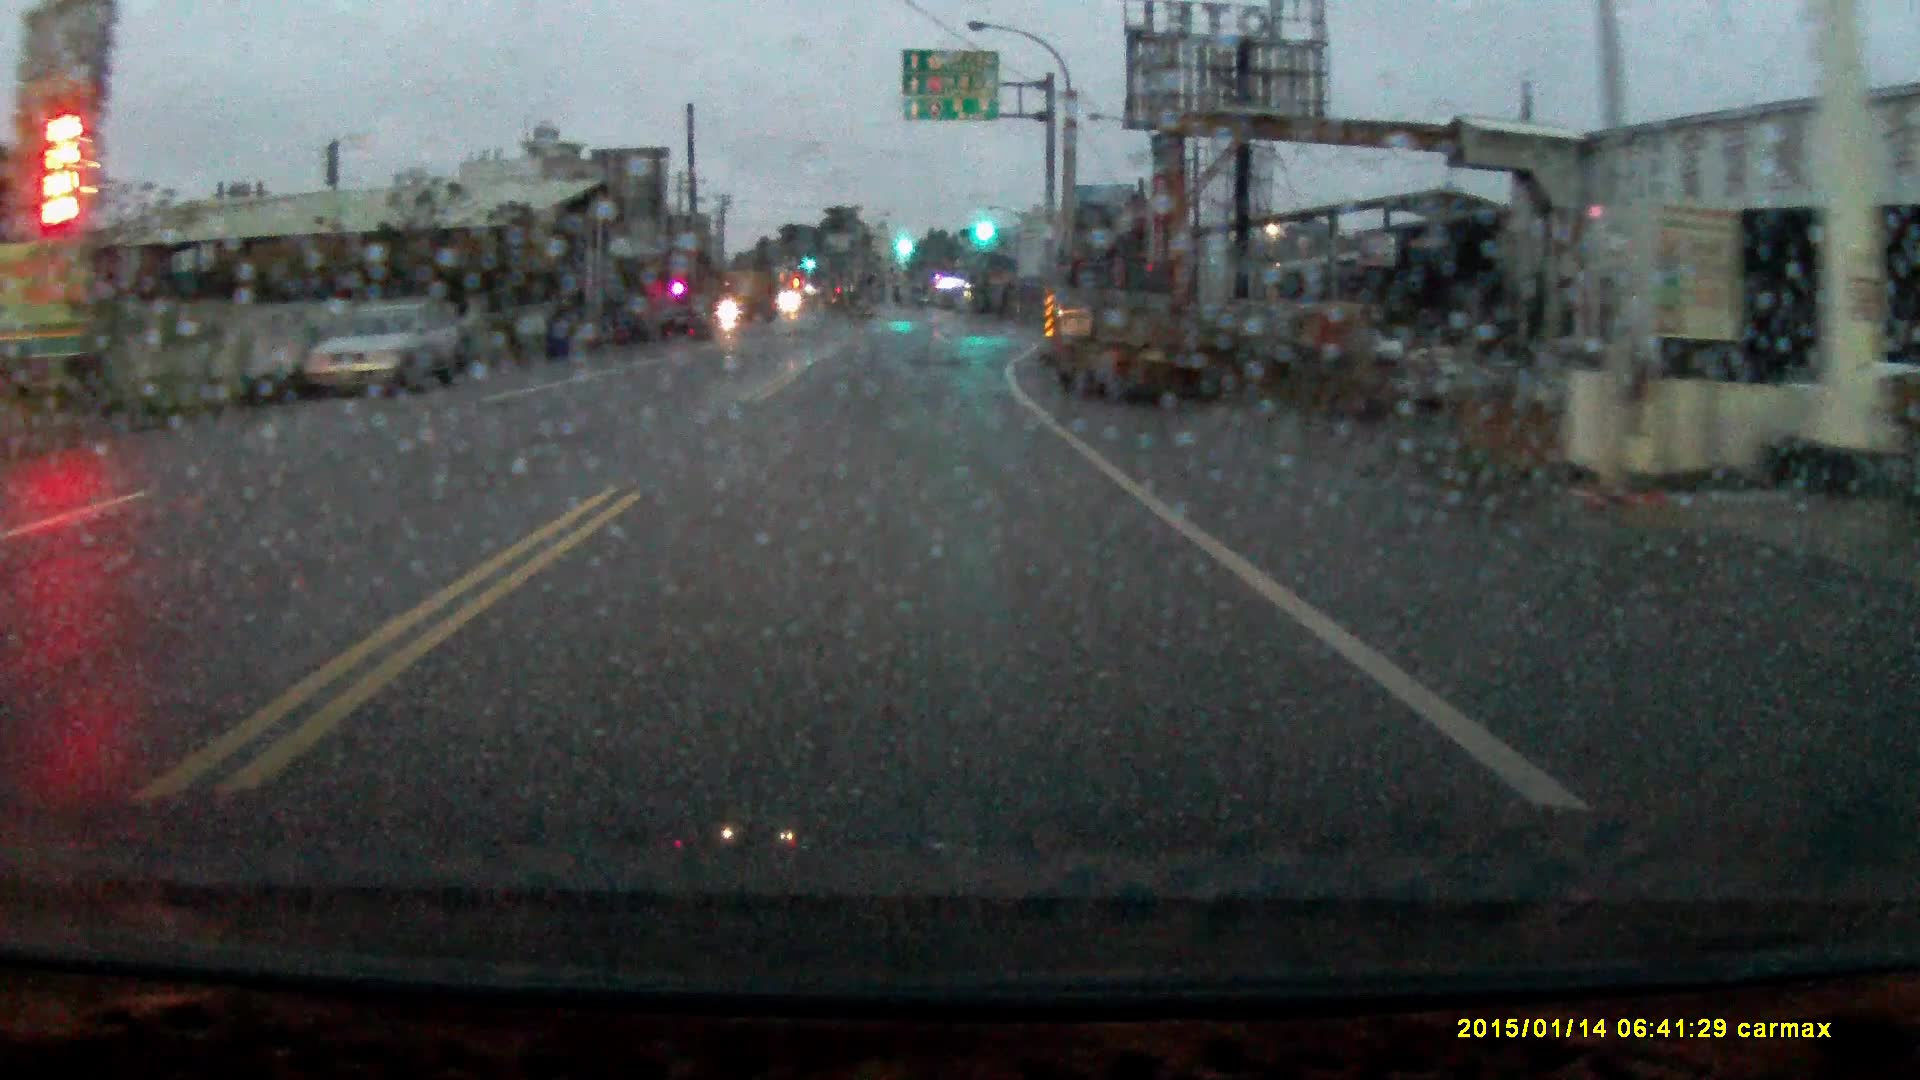vehicle: (1040, 247, 1189, 401), (299, 295, 463, 392), (709, 262, 778, 318)
